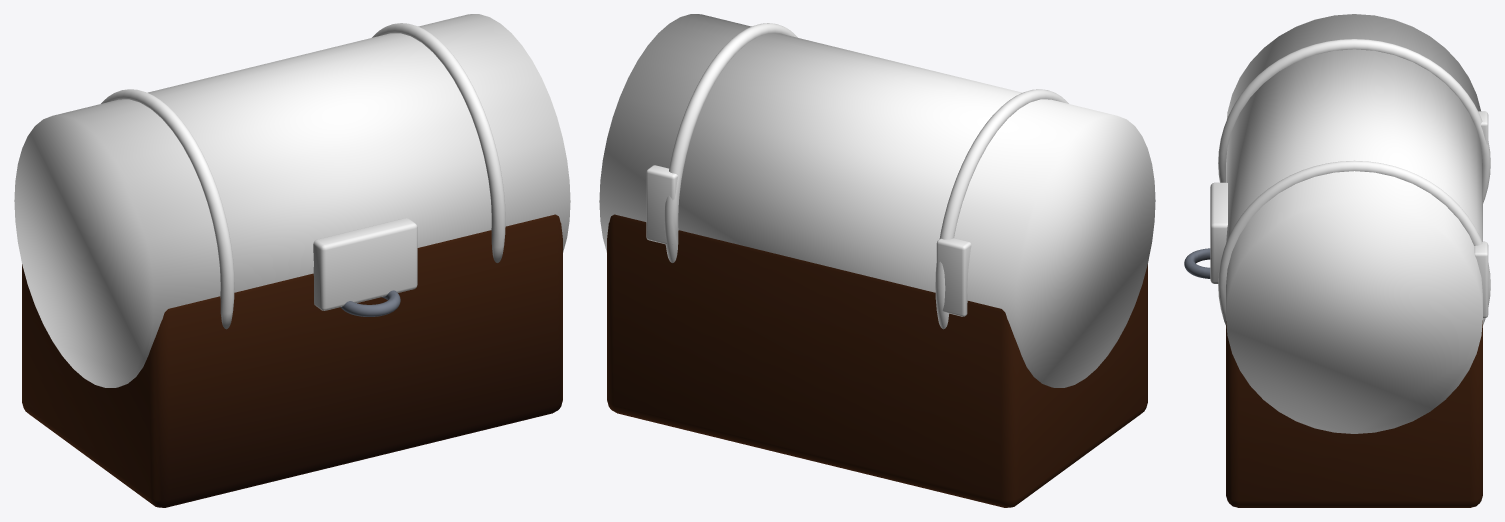
Rendered from wooden-chest.obj.
The picture shows the model from 3 angles, left to right: view 1: azimuth 30°, elevation 25°; view 2: azimuth 150°, elevation 25°; view 3: azimuth 270°, elevation 25°; orthographic projection. The views are drawn at different scales.
Parts seen in each view (by area): view 1: wooden-chest; view 2: wooden-chest; view 3: wooden-chest.
Part boxes in pixels (bbox=[...]): wooden-chest: bbox=[14, 14, 570, 507]; wooden-chest: bbox=[599, 14, 1155, 507]; wooden-chest: bbox=[1184, 14, 1490, 507].
Bounding box in the file's own units: 0.86 × 0.685 × 0.596.
